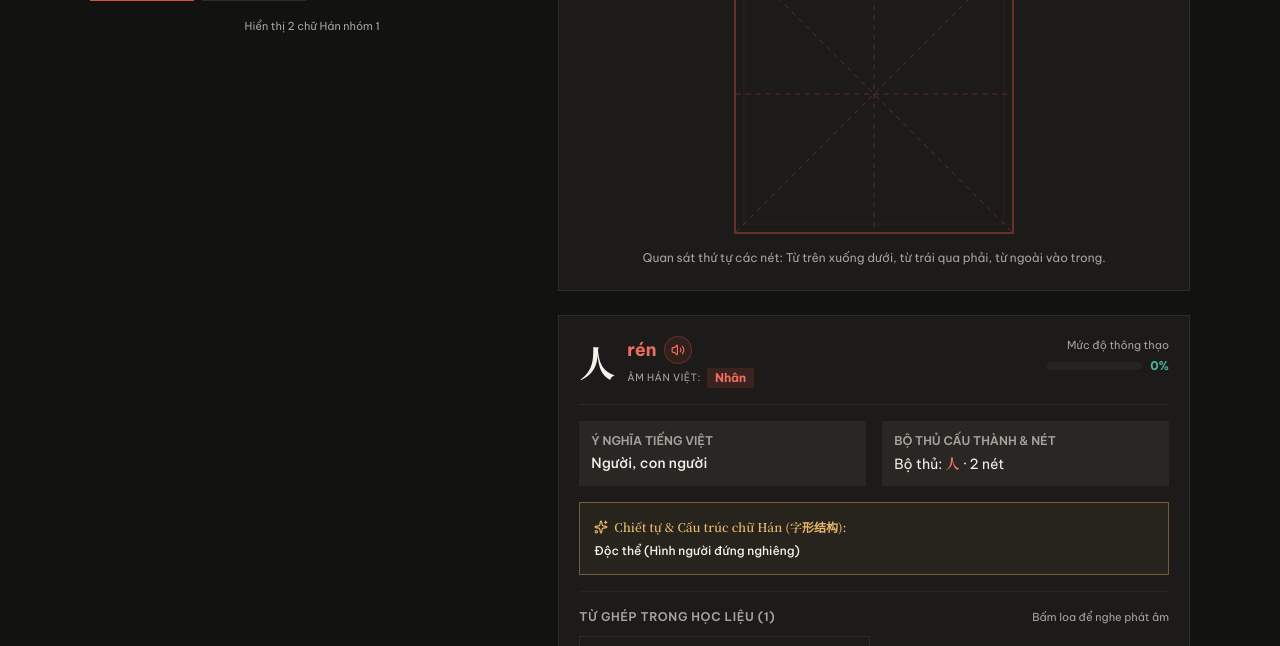
Test: Hanzi & Radicals Station (Trạm Chữ Hán HSK 1) › missing Mandarin voice offers recovery and speech stops when leaving the station
The width and height of the screenshot is (1280, 646).
(page scrolled)
Click the button titled "Nghe phát âm chữ Hán" at (678, 350), box [664, 336, 692, 364]
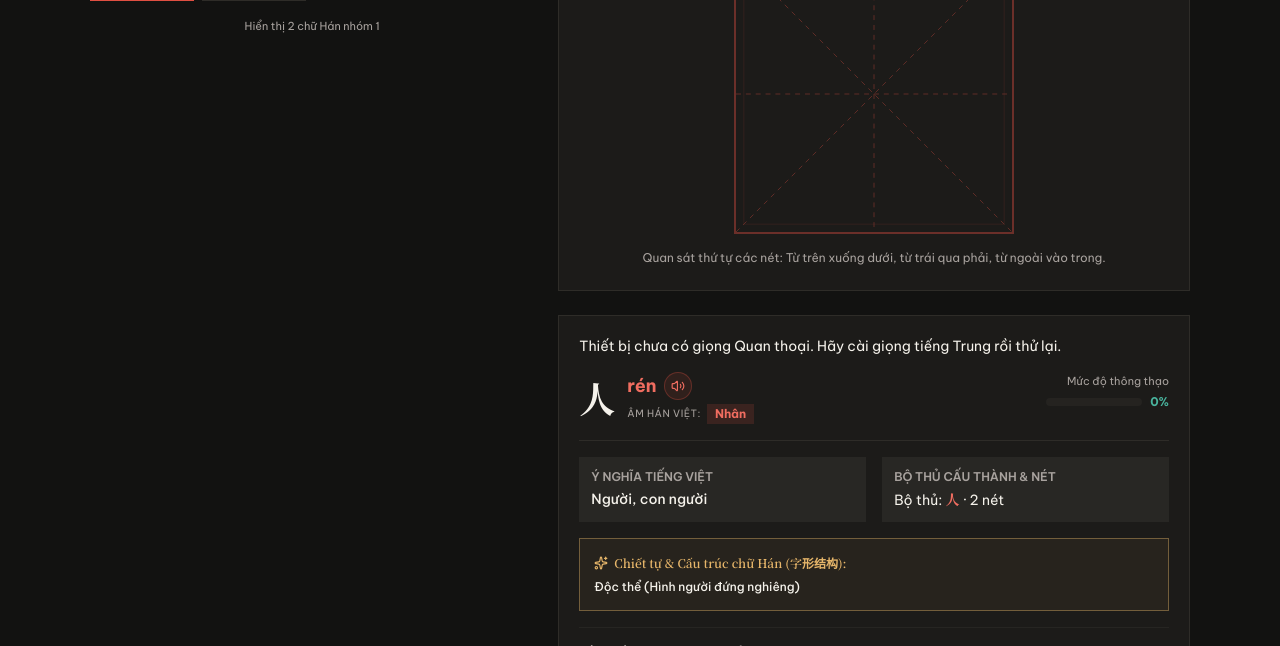
Expected: the message shows "cài giọng tiếng Trung", [579, 337, 1061, 355]
